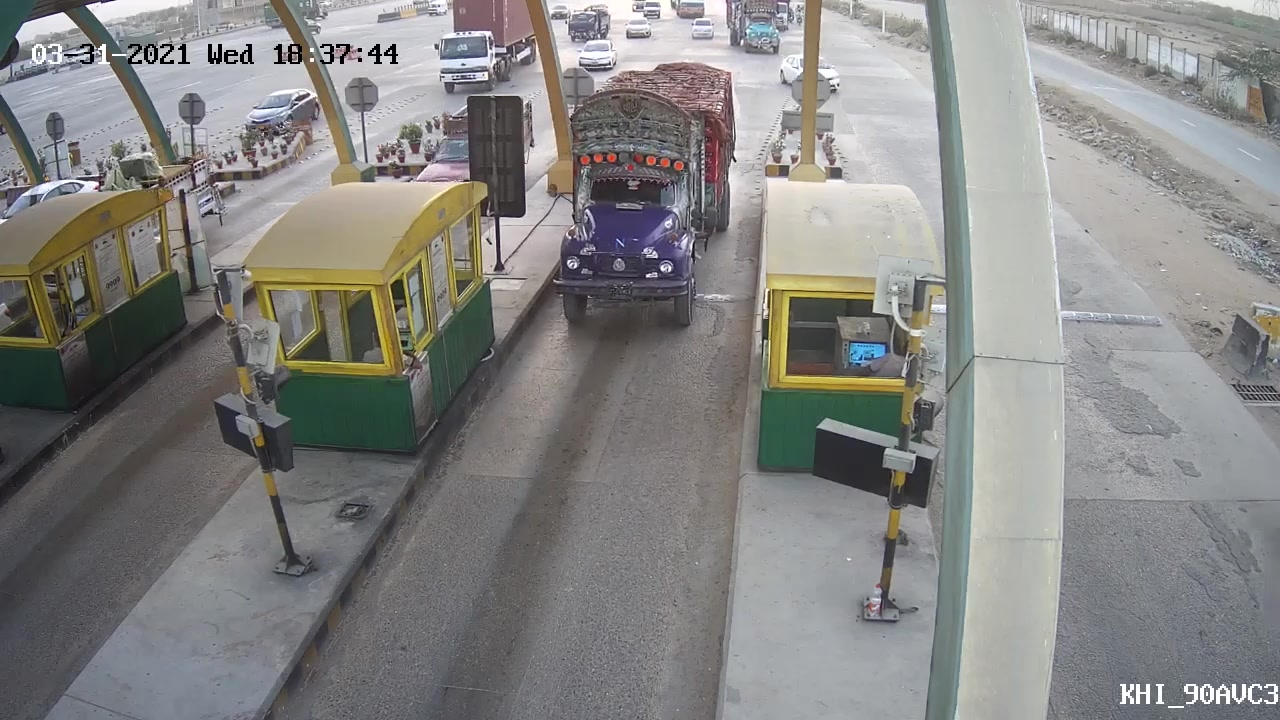F5: (544, 70, 734, 332)
